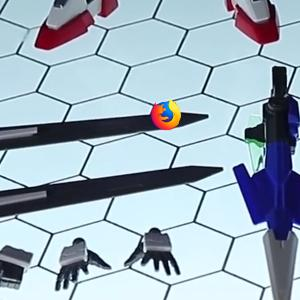firefox: (150, 99, 181, 130)
